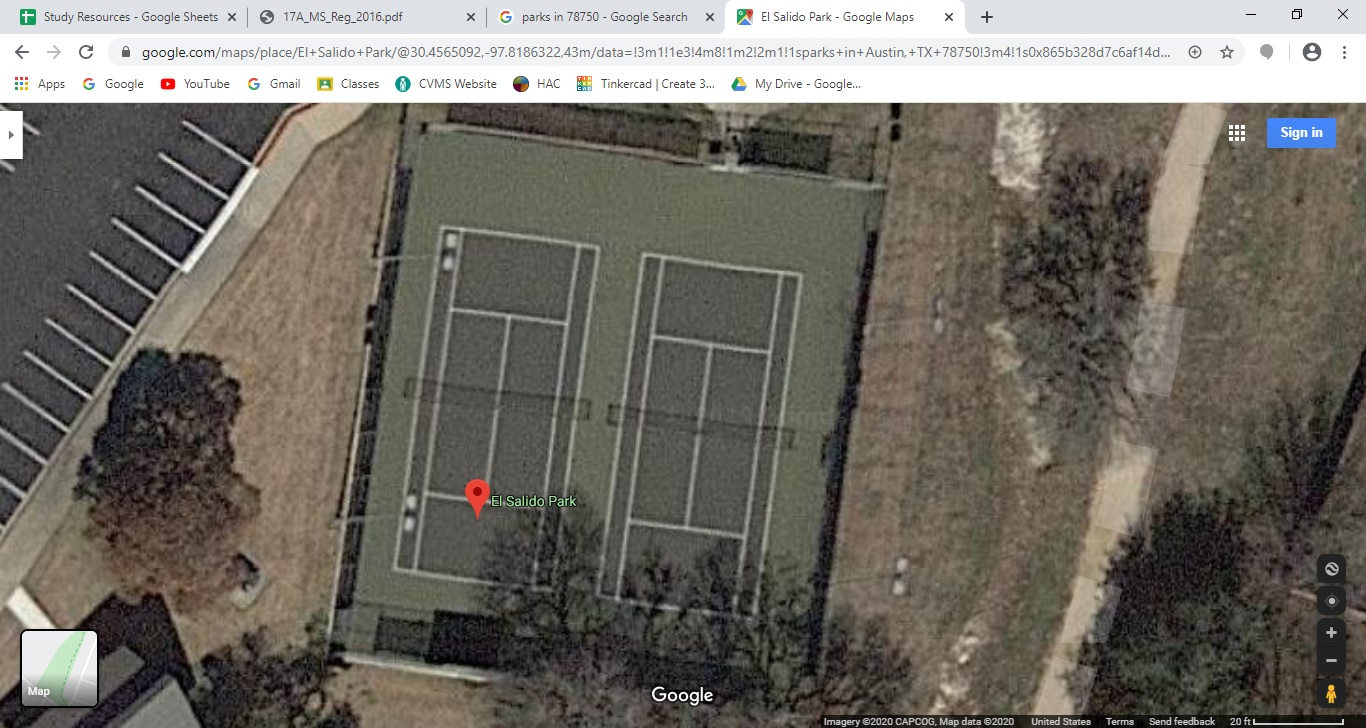tennis: (408, 217, 574, 608), (625, 241, 782, 628)
